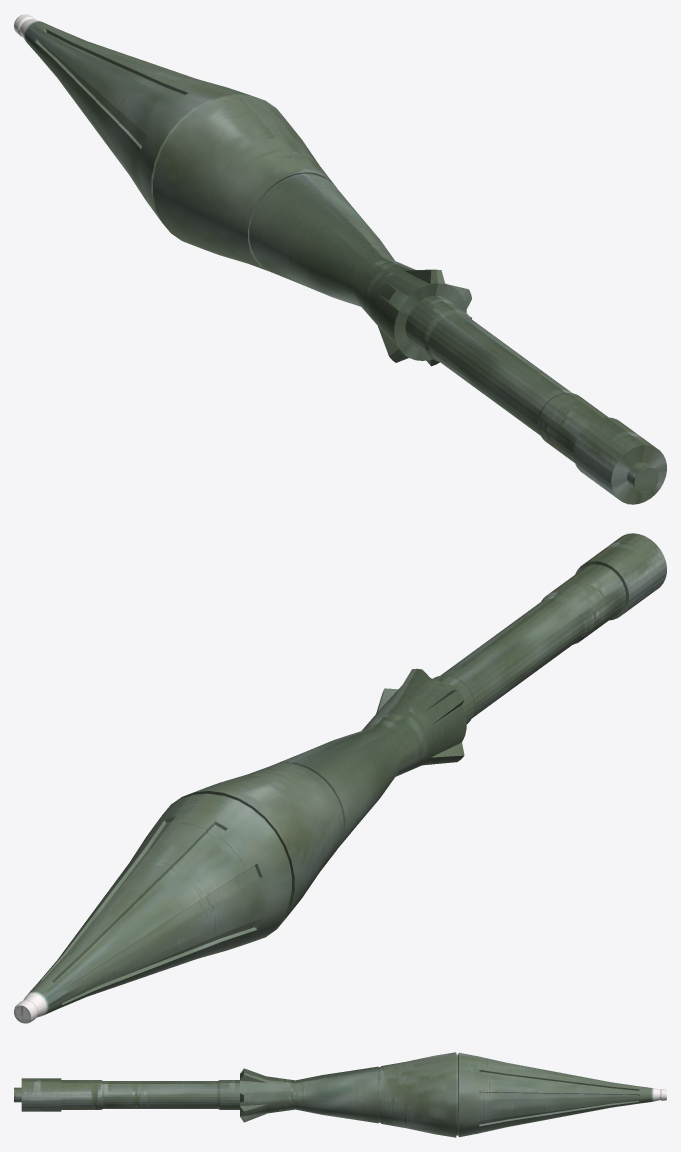
Rendered from rpg.obj.
The picture shows the model from 3 angles, top to bottom: view 1: azimuth 30°, elevation 25°; view 2: azimuth 150°, elevation 25°; view 3: azimuth 270°, elevation 25°; orthographic projection. The views are drawn at different scales.
Visible parts, largest first — view 1: Rocket_Mesh; view 2: Rocket_Mesh; view 3: Rocket_Mesh.
Part boxes in pixels (left/top/right/bottom): Rocket_Mesh: left=14, top=14, right=666, bottom=504; Rocket_Mesh: left=14, top=533, right=666, bottom=1023; Rocket_Mesh: left=14, top=1052, right=666, bottom=1137.
Bounding box in the file's own units: 0.131 × 0.1312 × 1.
1 material, 1 textured.
